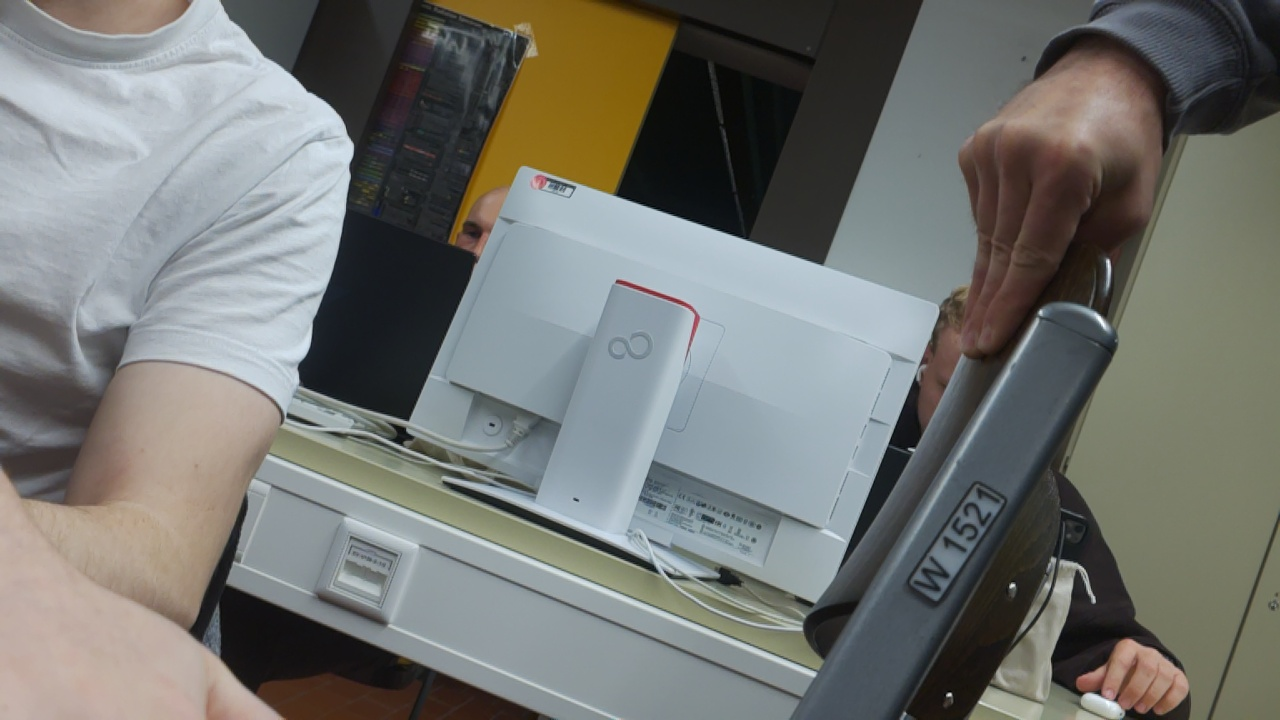license_plate: (897, 471, 1013, 615)
